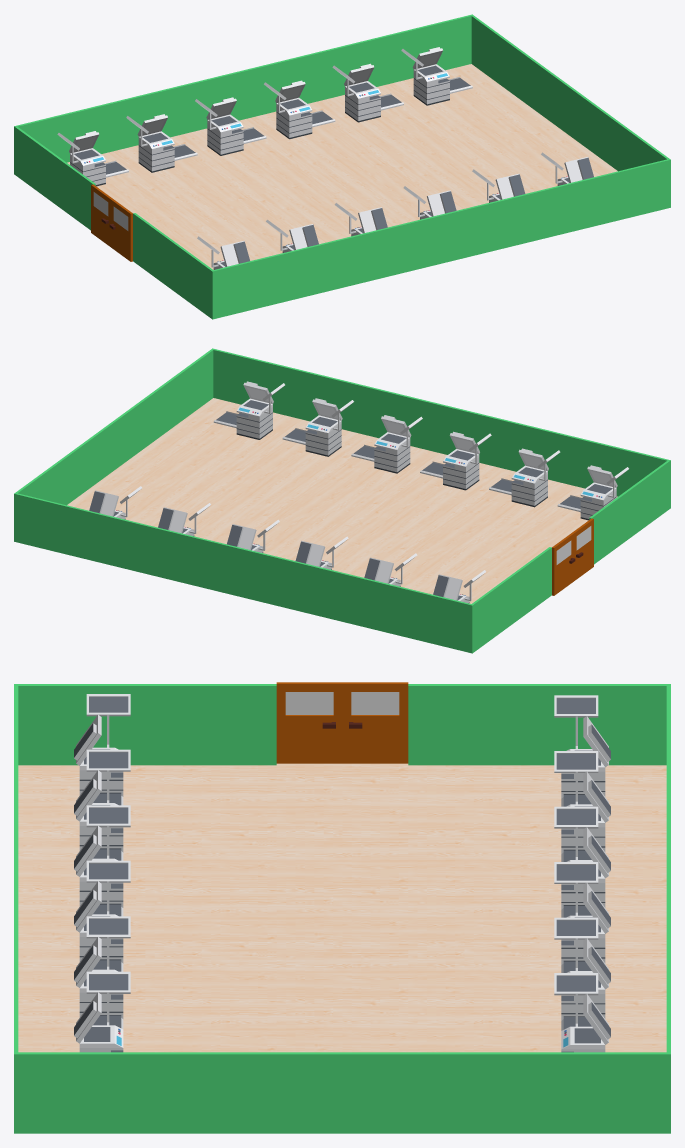
File: 2_PhotocopyRoom.fbx
3 renders of one model, top to bottom at view 1: azimuth 30°, elevation 25°; view 2: azimuth 150°, elevation 25°; view 3: azimuth 270°, elevation 25°, orthographic. The views are drawn at different scales.
Parts seen in each view (by area): view 1: 1_AssistTeacher, 0_InnerGround.003, 0_PhotocopyMachine.015, 0_PhotocopyMachine.011, 0_PhotocopyMachine.012, 0_PhotocopyMachine.013, 0_PhotocopyMachine.014, 0_PhotocopyMachine.003, 2_Door1Class.010, 2_Door1Class.008, 0_PhotocopyMachine.002, 0_PhotocopyMachine.006 (+4 smaller); view 2: 1_AssistTeacher, 0_InnerGround.003, 0_PhotocopyMachine.007, 0_PhotocopyMachine.008, 0_PhotocopyMachine.009, 0_PhotocopyMachine.010, 0_PhotocopyMachine.006, 0_PhotocopyMachine.002, 2_Door1Class.008, 2_Door1Class.010, 0_PhotocopyMachine.013, 0_PhotocopyMachine.003 (+4 smaller); view 3: 0_InnerGround.003, 1_AssistTeacher, 2_Door1Class.008, 2_Door1Class.010, 0_PhotocopyMachine.007, 0_PhotocopyMachine.006, 0_PhotocopyMachine.008, 0_PhotocopyMachine.002, 0_PhotocopyMachine.009, 0_PhotocopyMachine.010, 0_PhotocopyMachine.014, 0_PhotocopyMachine.003 (+4 smaller).
Part boxes in pixels (box(x1,y1,x2,y2)): 1_AssistTeacher: box(14, 14, 670, 319); 0_InnerGround.003: box(67, 64, 617, 269); 0_PhotocopyMachine.015: box(401, 47, 472, 105); 0_PhotocopyMachine.011: box(126, 114, 197, 172); 0_PhotocopyMachine.012: box(195, 97, 266, 155); 0_PhotocopyMachine.013: box(264, 80, 335, 139); 0_PhotocopyMachine.014: box(332, 63, 403, 122); 0_PhotocopyMachine.003: box(57, 131, 128, 186); 2_Door1Class.010: box(109, 199, 132, 261); 2_Door1Class.008: box(91, 184, 112, 246); 0_PhotocopyMachine.002: box(197, 236, 249, 269); 0_PhotocopyMachine.006: box(266, 219, 318, 252); 1_AssistTeacher: box(14, 348, 670, 653); 0_InnerGround.003: box(67, 398, 617, 603); 0_PhotocopyMachine.007: box(420, 431, 491, 490); 0_PhotocopyMachine.008: box(351, 415, 422, 473); 0_PhotocopyMachine.009: box(282, 398, 353, 456); 0_PhotocopyMachine.010: box(213, 381, 284, 439); 0_PhotocopyMachine.006: box(489, 448, 560, 507); 0_PhotocopyMachine.002: box(557, 465, 628, 520); 2_Door1Class.008: box(552, 533, 575, 595); 2_Door1Class.010: box(572, 518, 593, 580); 0_PhotocopyMachine.013: box(227, 519, 279, 552); 0_PhotocopyMachine.003: box(433, 570, 485, 603); 0_InnerGround.003: box(18, 763, 666, 1052); 1_AssistTeacher: box(14, 684, 670, 1133); 2_Door1Class.008: box(342, 682, 408, 763); 2_Door1Class.010: box(276, 682, 342, 763); 0_PhotocopyMachine.007: box(74, 805, 130, 916); 0_PhotocopyMachine.006: box(74, 749, 130, 860); 0_PhotocopyMachine.008: box(74, 860, 130, 971); 0_PhotocopyMachine.002: box(74, 694, 130, 805); 0_PhotocopyMachine.009: box(74, 916, 130, 1028); 0_PhotocopyMachine.010: box(74, 971, 130, 1052); 0_PhotocopyMachine.014: box(554, 917, 610, 1030); 0_PhotocopyMachine.003: box(554, 695, 610, 806).
Bounding box in the file's own units: 1500 × 2025 × 218.
Materials: 4 (2 with a texture image).
